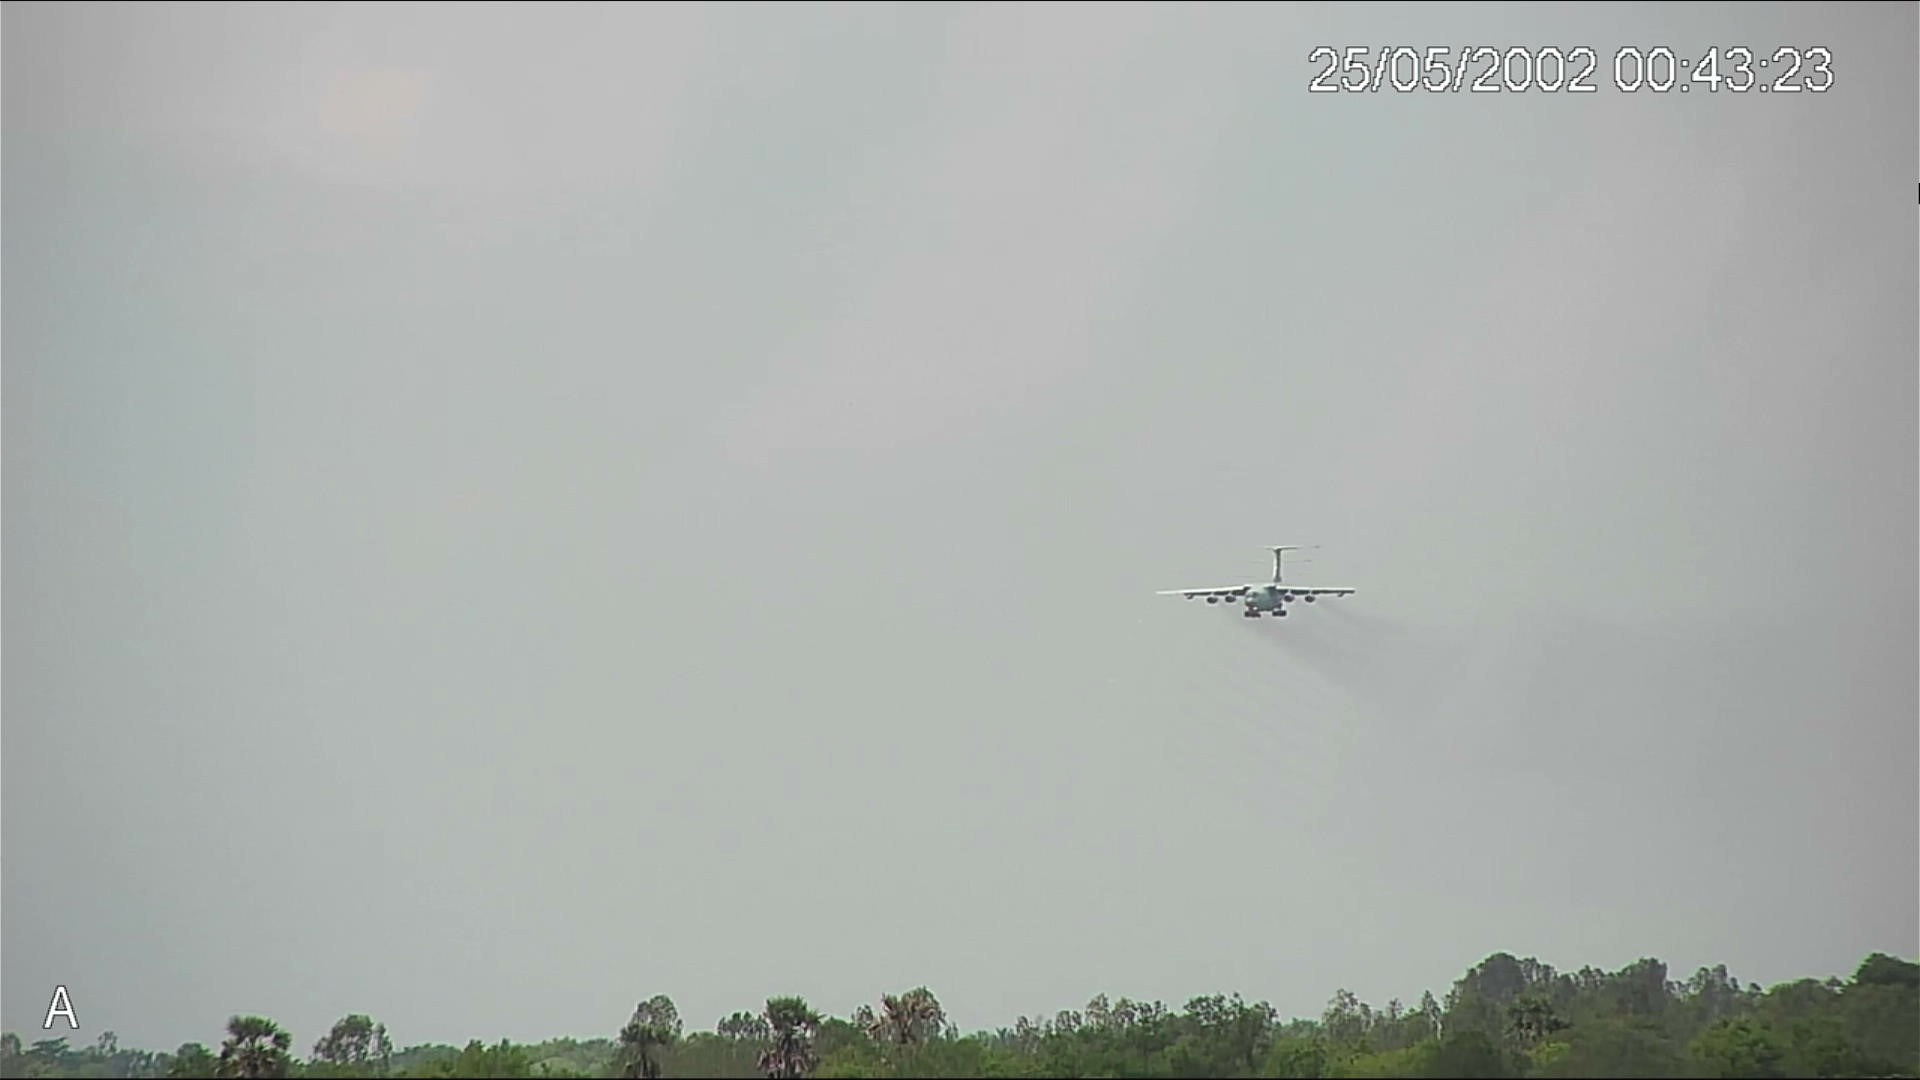SU_30: (1153, 541, 1358, 620)
